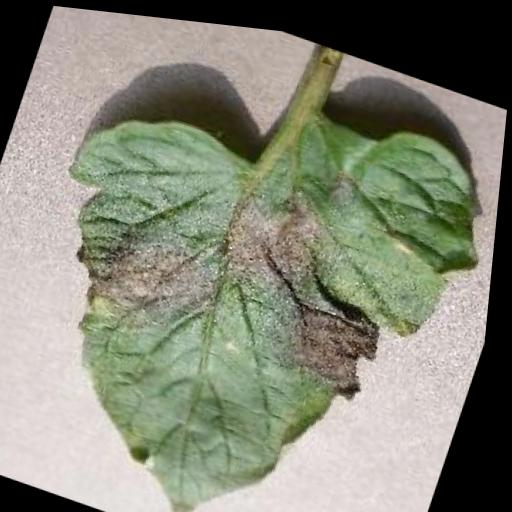Late Blight: (0, 16, 511, 512)
